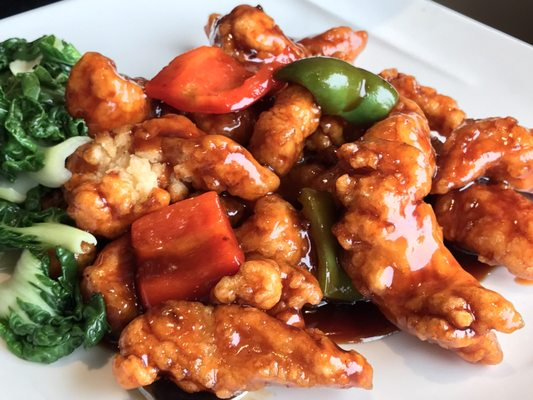curry: (0, 246, 111, 365)
